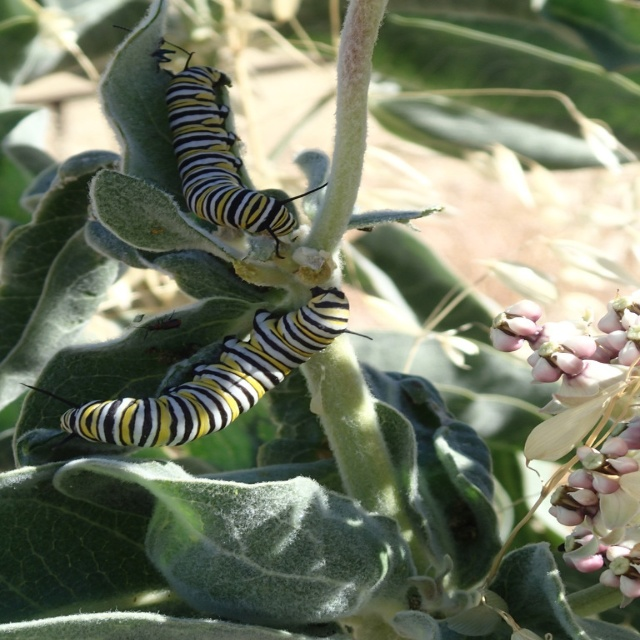Caterpillar: (22, 285, 372, 447), (165, 41, 326, 256)
